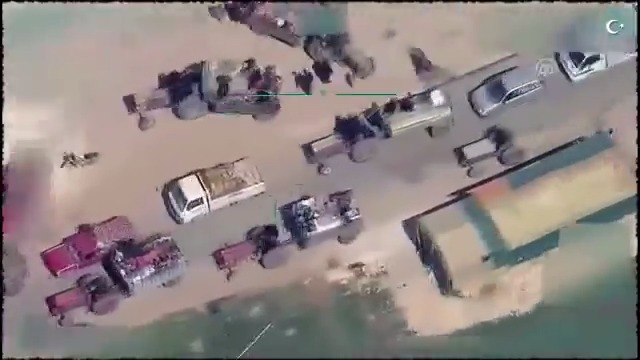arac: (296, 79, 461, 179), (109, 45, 291, 133), (204, 188, 364, 281), (43, 227, 191, 326), (160, 152, 274, 226), (37, 205, 137, 281), (294, 11, 382, 95), (464, 57, 545, 127), (450, 125, 532, 179), (58, 146, 106, 176)
bina: (405, 131, 640, 301)
